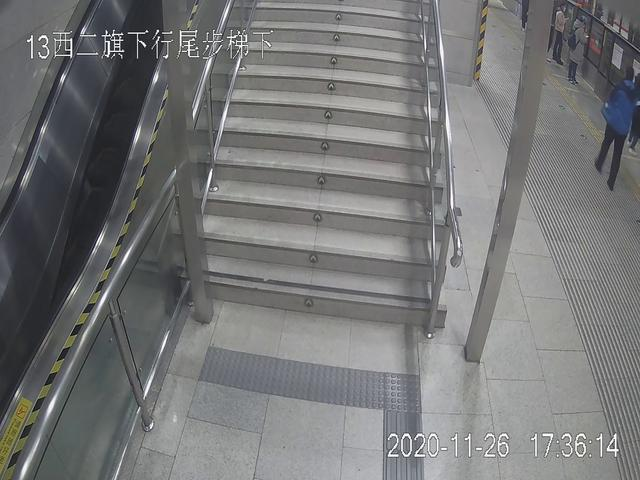person: (601, 67, 636, 195), (570, 13, 595, 84), (550, 1, 572, 68)
